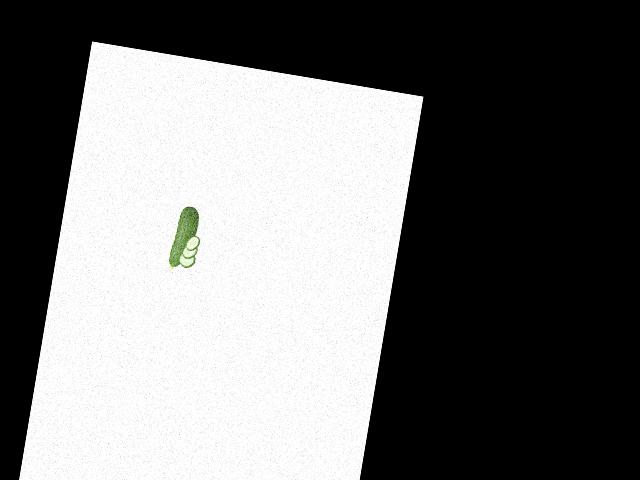cucumber: (167, 203, 201, 273)
